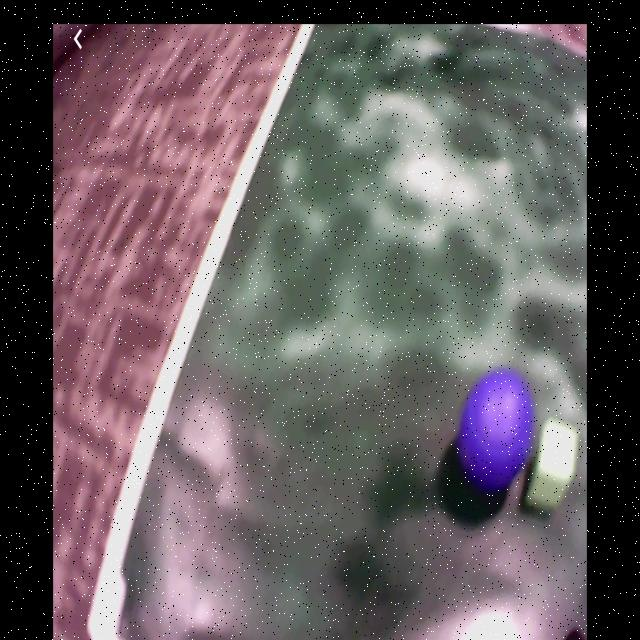ball: (460, 371, 536, 490)
